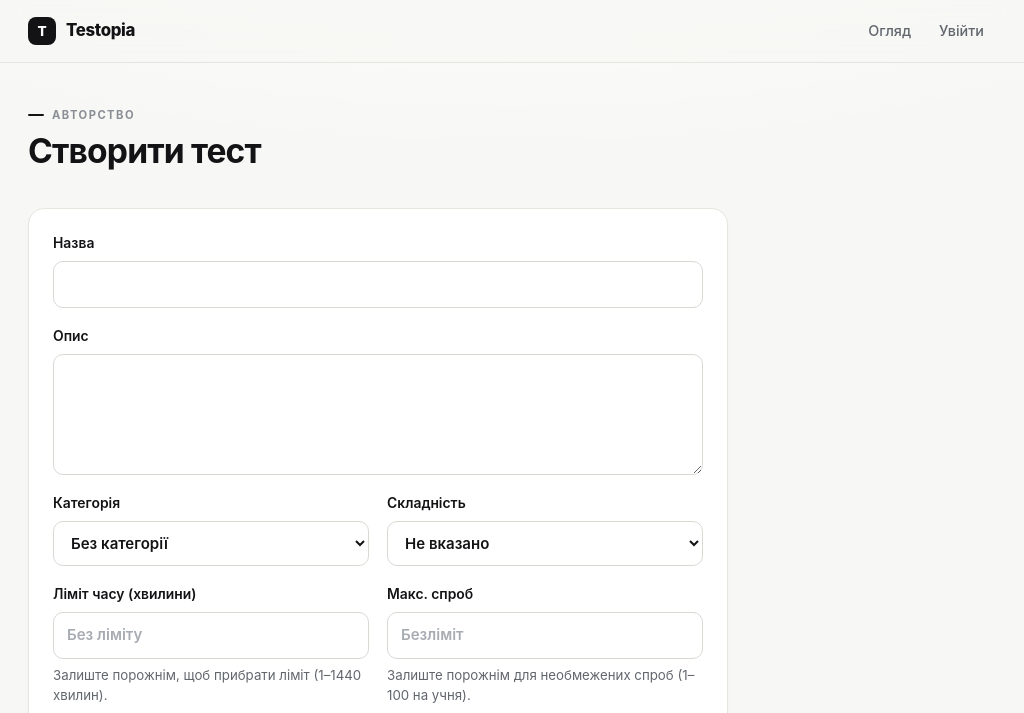
Test case: test frontend › saves category and difficulty with the test details
Step 1. Type "C++ basics" into the field labelled "Назва" → [378, 285], box [53,261,703,308]
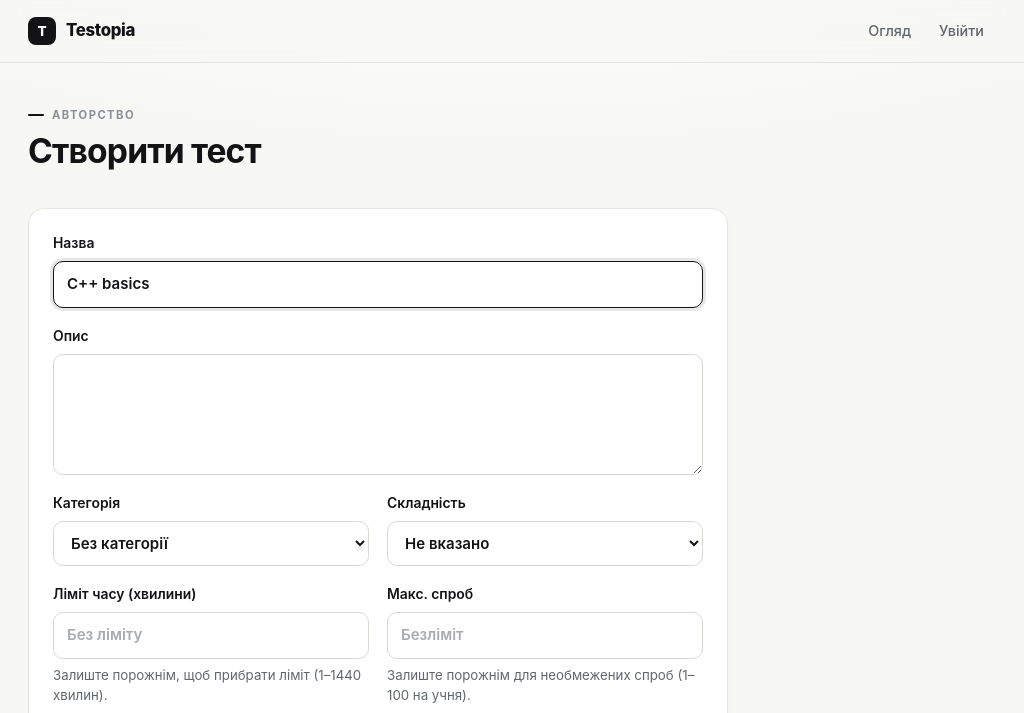
Step 2. Select "C++" in the dropdown labelled "Категорія" → [211, 544], box [53,521,369,566]
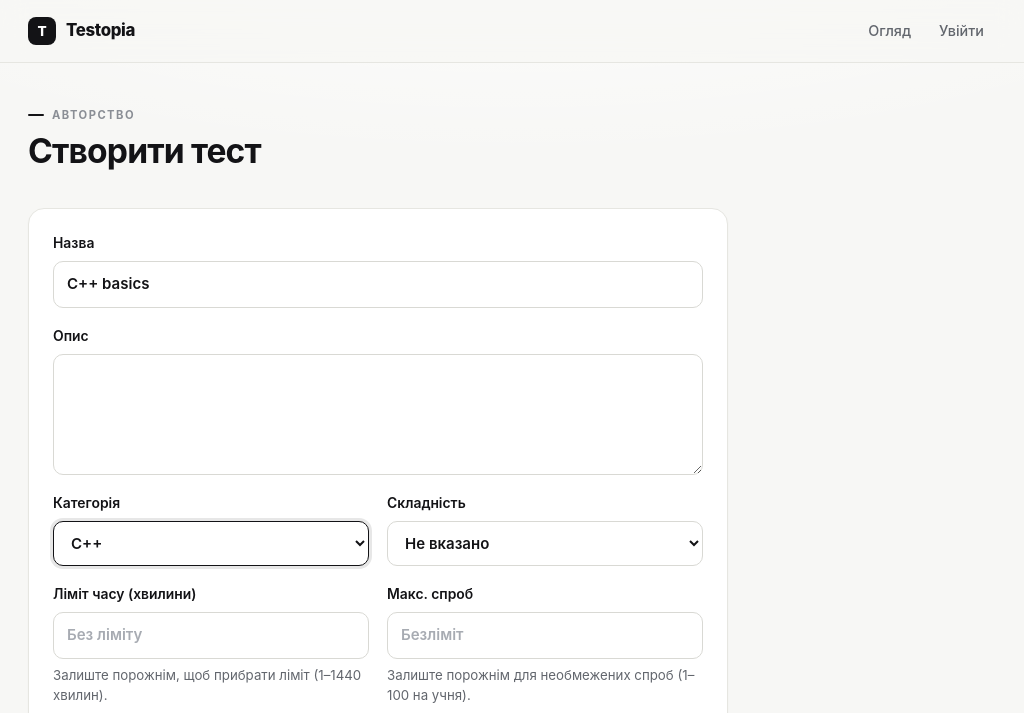
Step 3. Select "Середньо" in the dropdown labelled "Складність" → [545, 544], box [387,521,703,566]
(page scrolled)
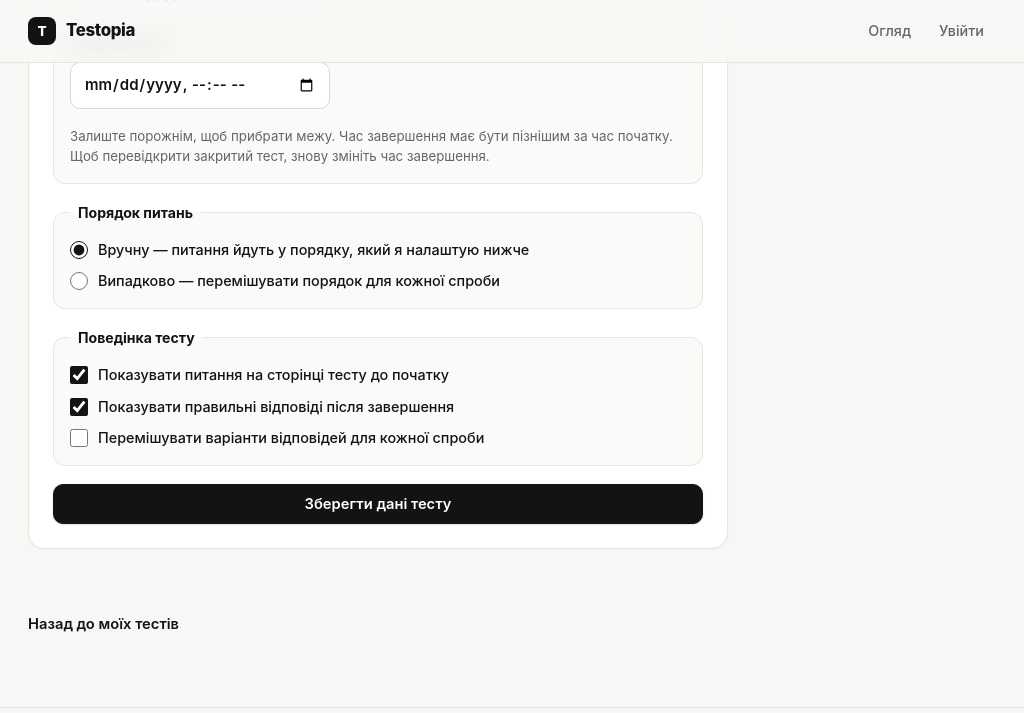
Step 4. Click the button "Зберегти дані тесту" → [378, 504], box [53,484,703,524]
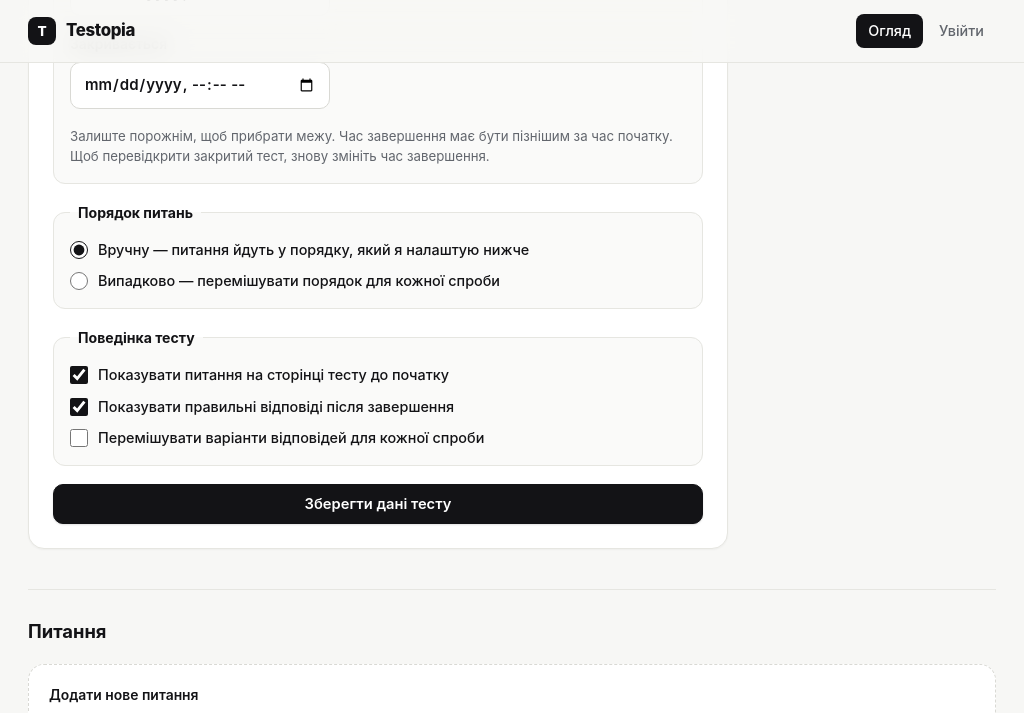
expect the heading "Питання" is shown: met, box [28,618,106,646]
